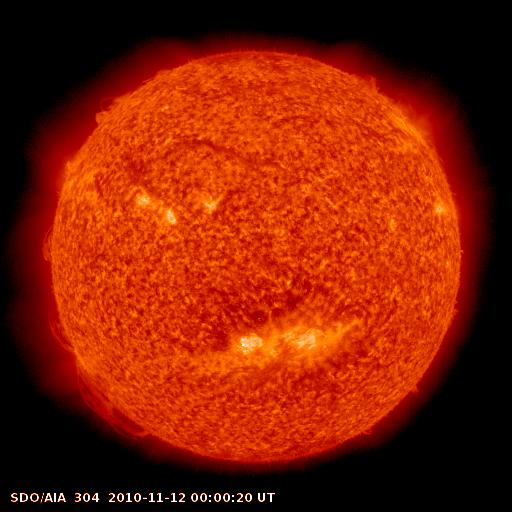prominence: (63, 360, 161, 446), (80, 81, 144, 131), (28, 213, 80, 269), (39, 289, 84, 353), (352, 60, 393, 107)
